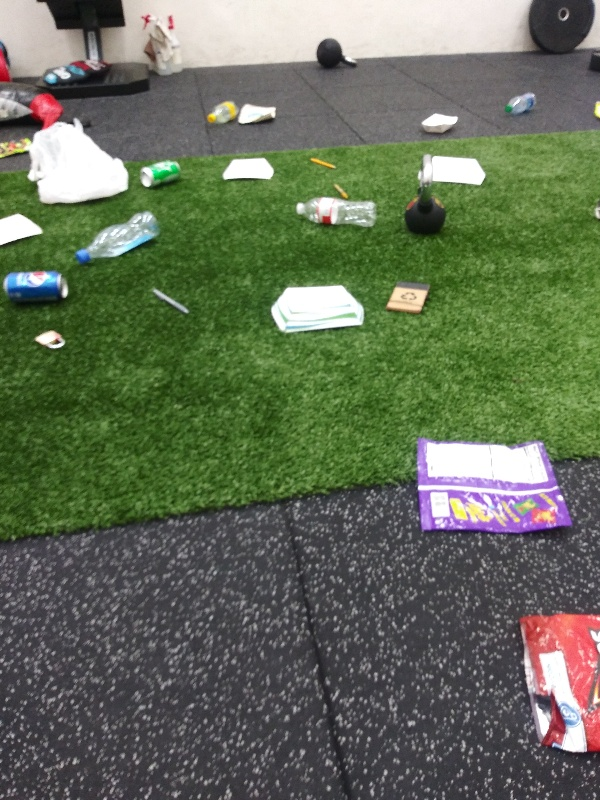bag: (410, 432, 577, 542), (515, 609, 600, 759), (236, 101, 281, 126), (1, 134, 35, 157)
bottle: (72, 208, 163, 266), (290, 197, 380, 233), (202, 97, 243, 127), (501, 88, 540, 116)
can: (1, 267, 72, 307), (137, 157, 189, 193)
plate: (267, 282, 366, 337), (414, 152, 490, 190), (1, 211, 48, 249), (219, 155, 276, 183), (418, 111, 462, 139)
